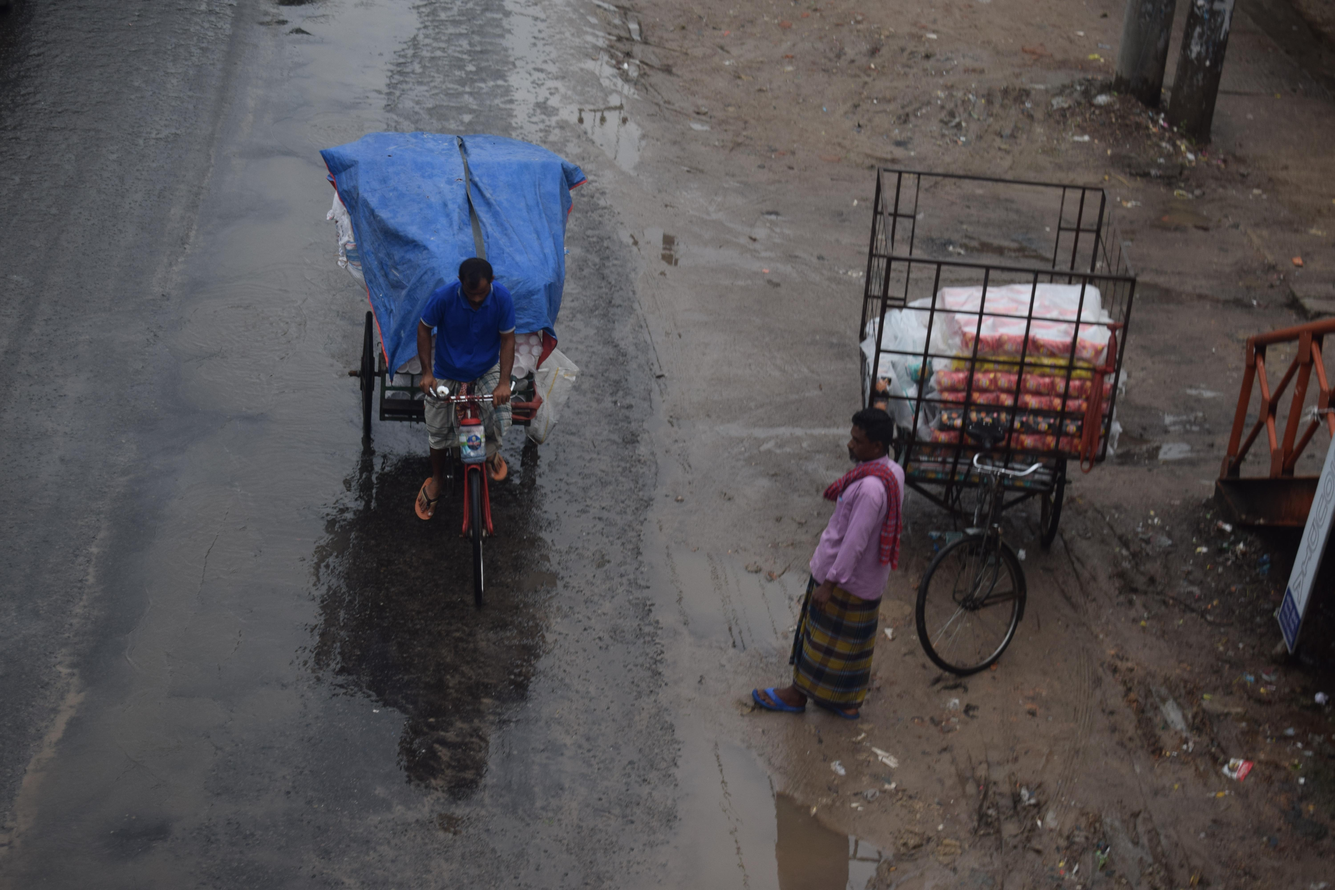Car: (751, 96, 1156, 722), (246, 74, 638, 647)
